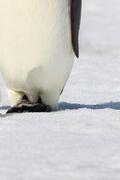Emperor Penguin: (0, 0, 106, 124)
